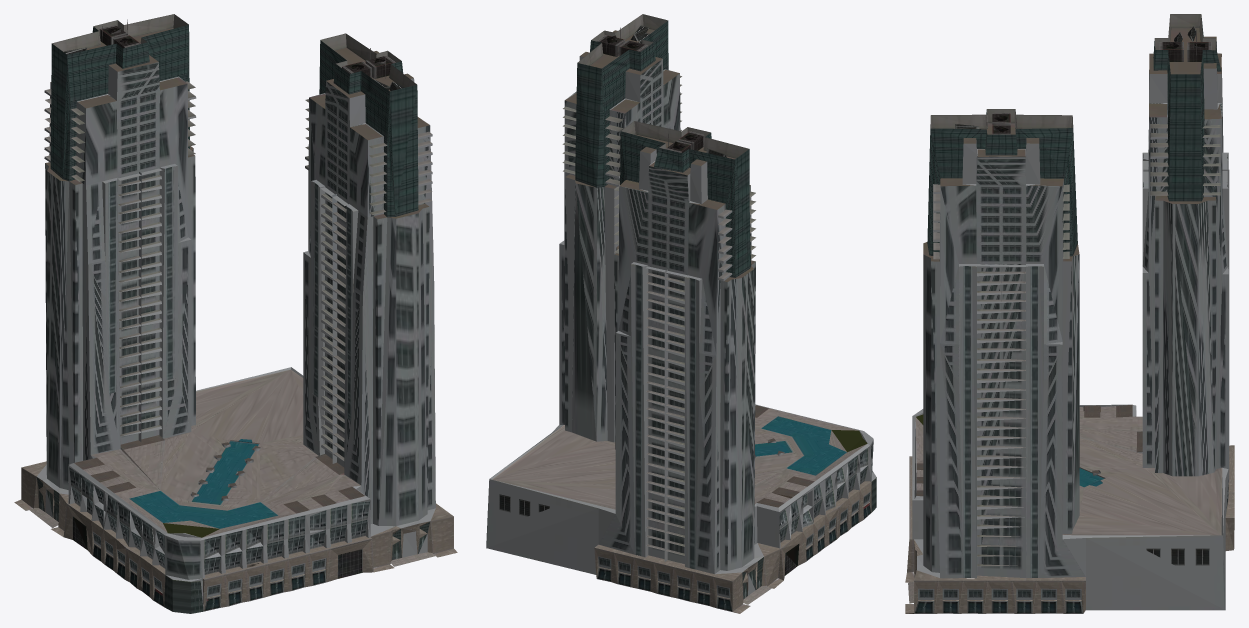
The model's file is podium_tower_lod1.glb.
The picture shows the model from 3 angles, left to right: view 1: azimuth 30°, elevation 25°; view 2: azimuth 150°, elevation 25°; view 3: azimuth 270°, elevation 25°; orthographic projection. The views are drawn at different scales.
Visible parts, largest first — view 1: podium_tower; view 2: podium_tower; view 3: podium_tower.
Part boxes in pixels (<box>): podium_tower: <box>14,14,457,613</box>; podium_tower: <box>486,14,876,613</box>; podium_tower: <box>905,14,1234,613</box>.
Size of the model in its own units: 94.45 by 152 by 94.45.
Materials: 1 (1 with a texture image).
